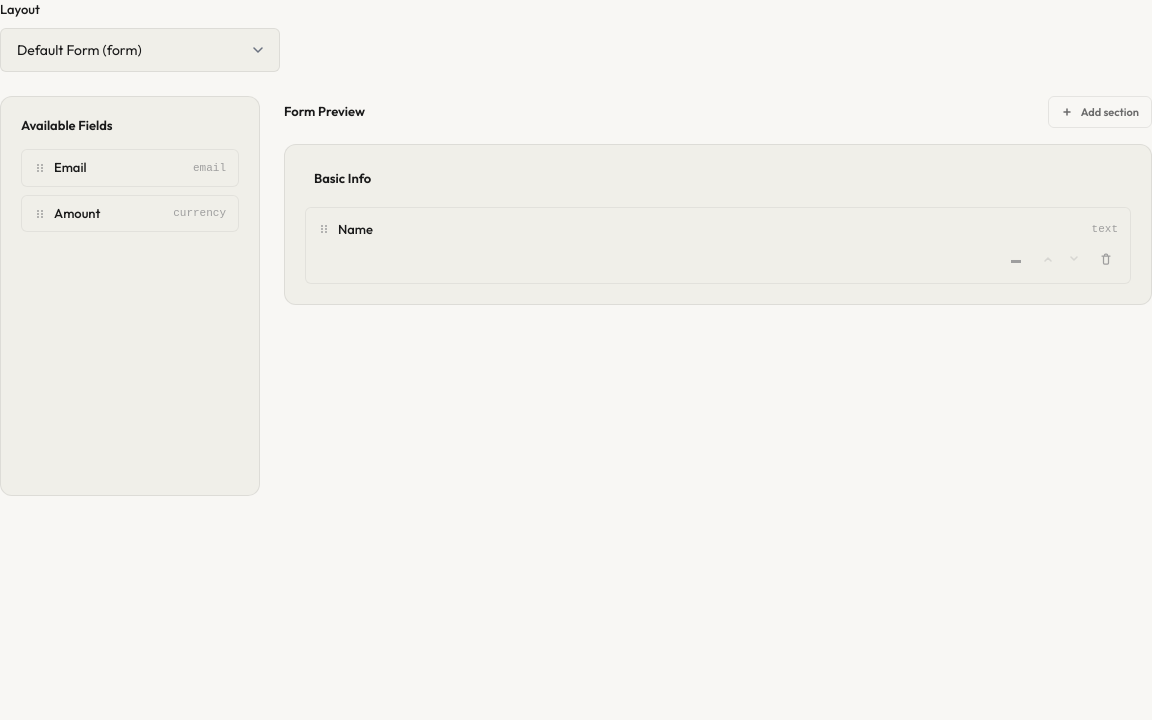
Scenario: LayoutBuilderTab › closes create modal when cancel is clicked
Select "+ Create new layout" in the dropdown labelled "Layout" at (140, 50), box x1=0 y1=28 x2=280 y2=72
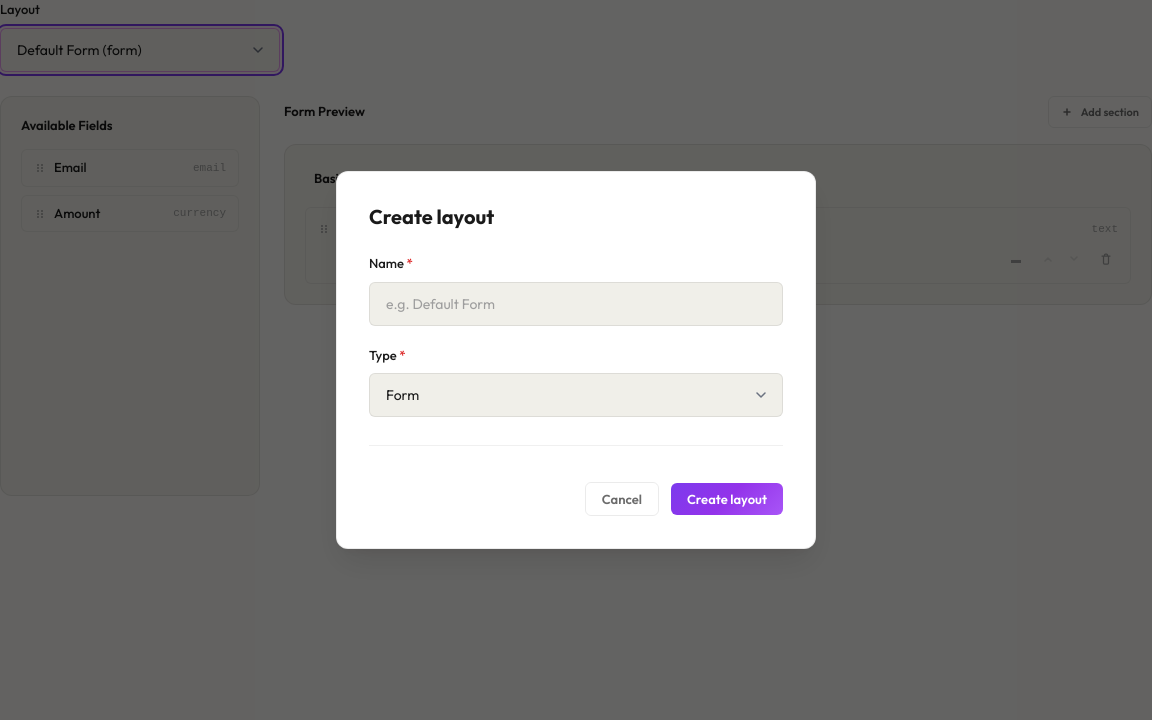
Now the dialog "Create layout" is shown
Click the button "Cancel" at (622, 499), box x1=585 y1=482 x2=659 y2=516
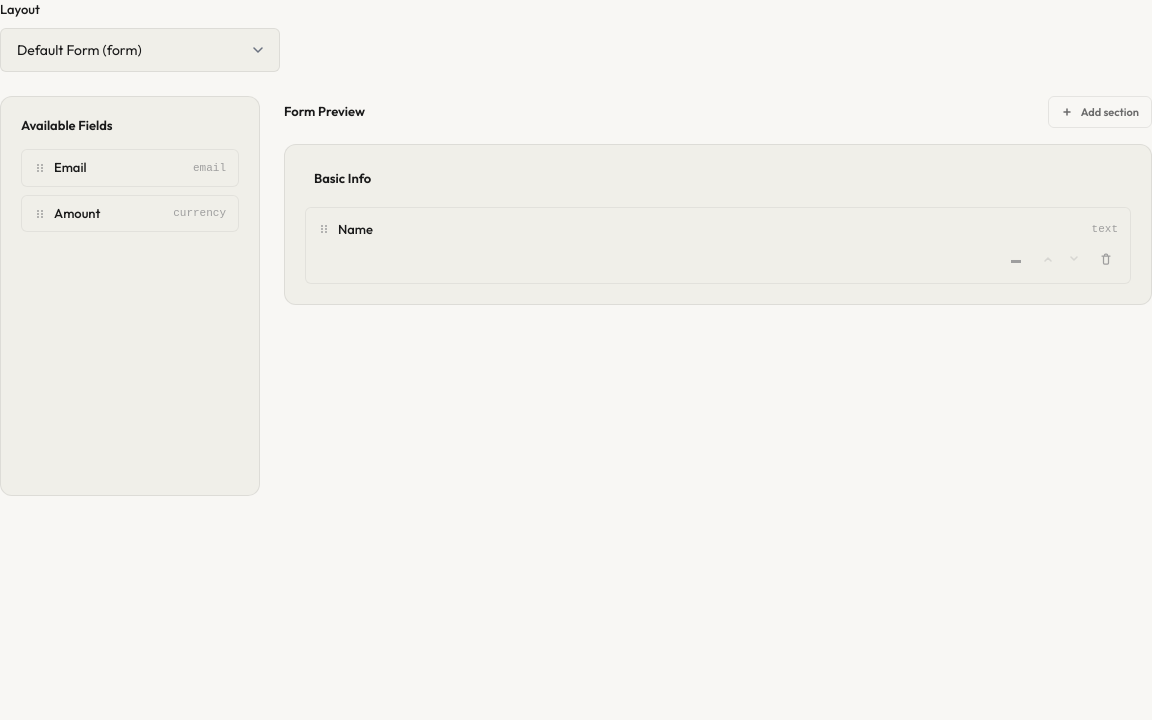
Now the heading "Create layout" is gone
